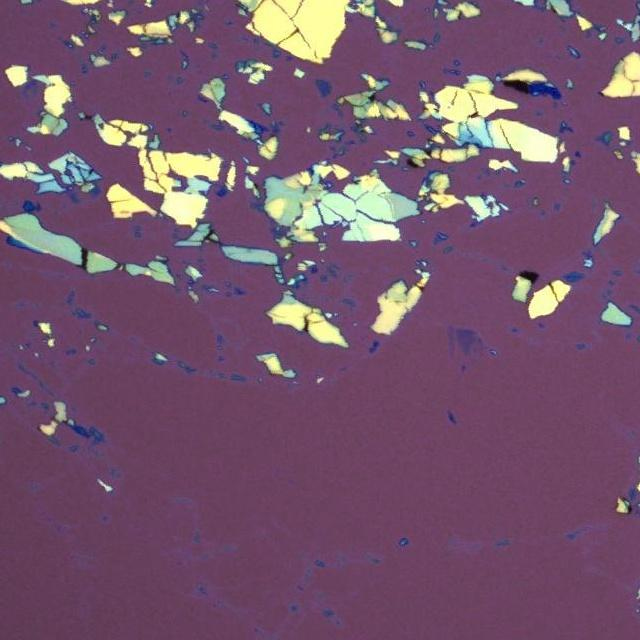monolayer-eWW4: (456, 328, 478, 354)
